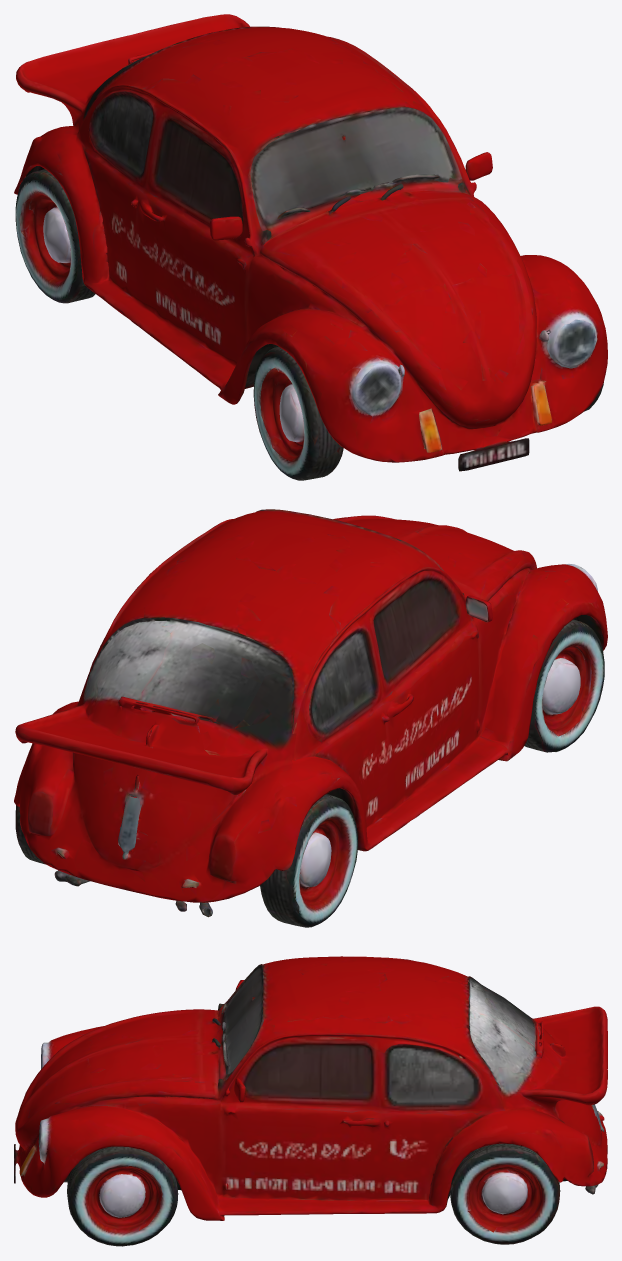
File: beetle.glb
The picture shows the model from 3 angles, top to bottom: view 1: azimuth 30°, elevation 25°; view 2: azimuth 150°, elevation 25°; view 3: azimuth 270°, elevation 25°; orthographic projection. The views are drawn at different scales.
Parts seen in each view (by area): view 1: world; view 2: world; view 3: world.
Boxes of the visible parts, x1,y1,x2,y2 form: world: [14, 14, 607, 480]; world: [14, 509, 607, 927]; world: [14, 956, 607, 1246].
Bounding box in the file's own units: 0.4585 × 0.3998 × 1.
1 material, 1 textured.
